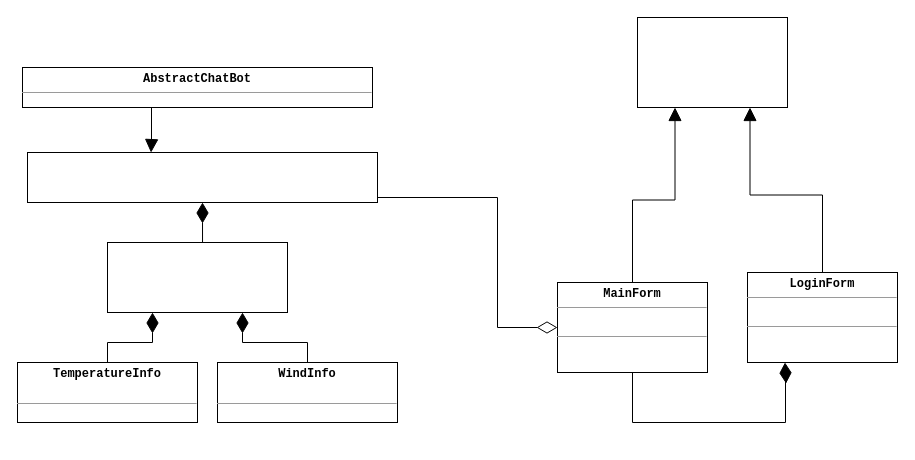
The diagram is 915 pixels wide and 460 high, and some of its shapes have lost their labels. The box of each missing label's shape, as (x1, y1, x2, y2) in pixels:
ChatBot: (26, 152, 378, 202)
Form: (636, 16, 788, 108)
WeatherResponse: (106, 242, 288, 312)
